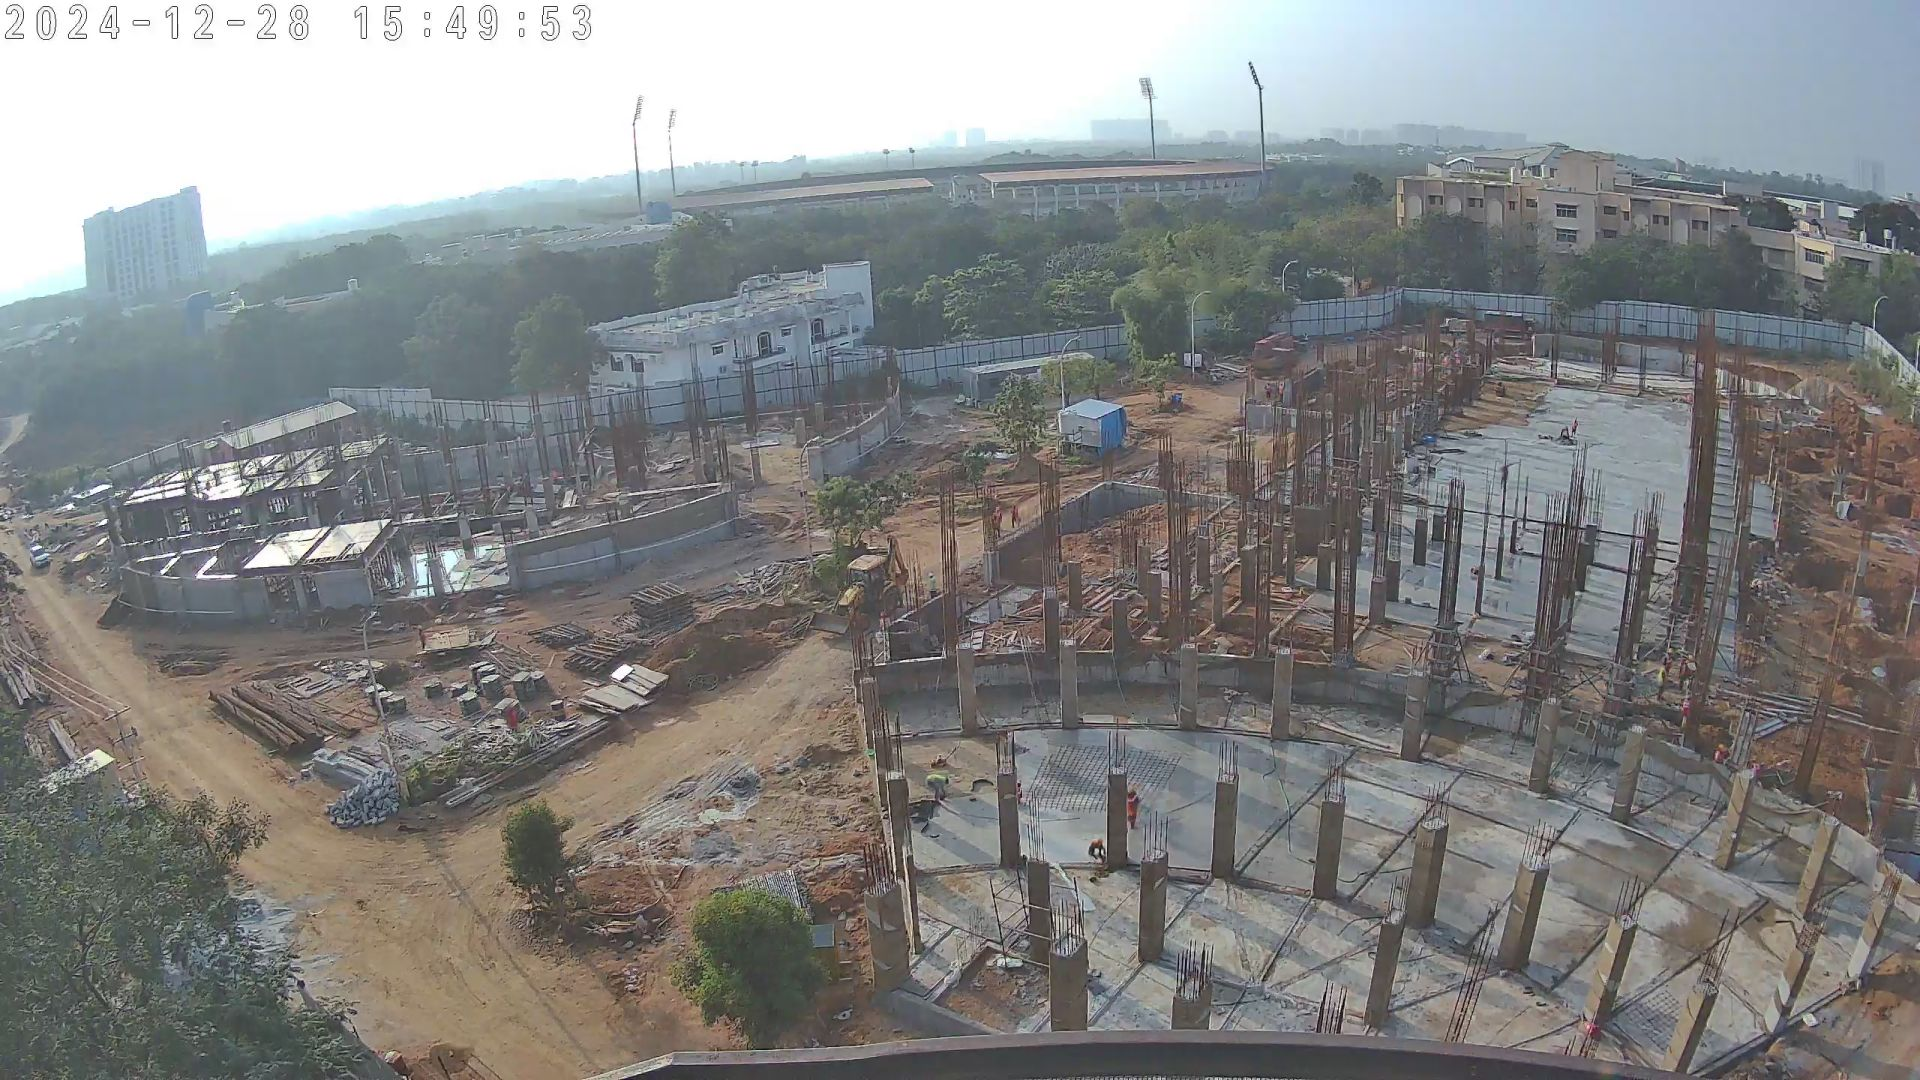car: (24, 544, 49, 568)
worker: (923, 768, 953, 806), (1124, 784, 1144, 837), (1264, 376, 1289, 418), (1743, 753, 1766, 796), (1087, 834, 1107, 880), (1656, 644, 1674, 691), (1713, 743, 1730, 780), (1680, 651, 1694, 691), (924, 570, 942, 600), (989, 503, 1004, 538), (1679, 700, 1690, 746), (414, 623, 430, 654), (1006, 503, 1022, 531), (545, 464, 561, 487), (1570, 414, 1581, 439), (1559, 422, 1570, 442)
